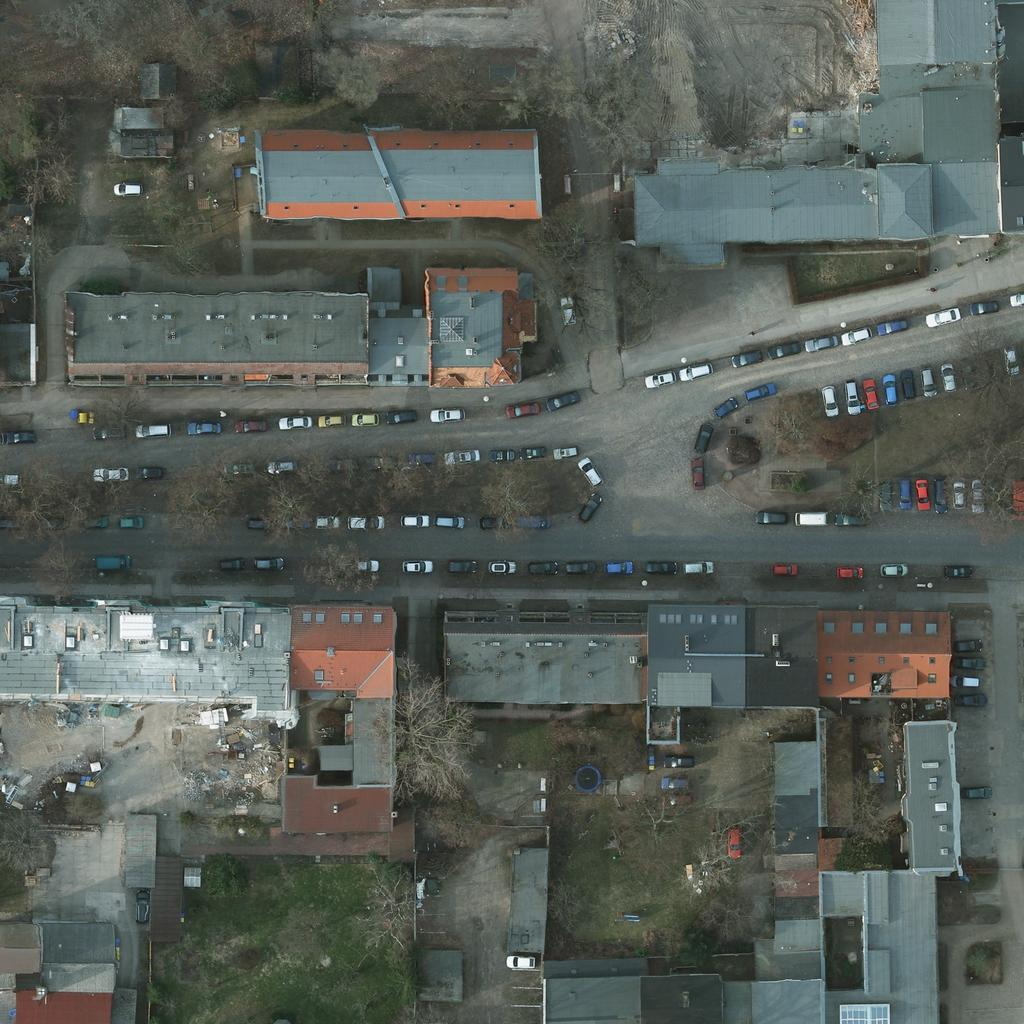car: (111, 171, 145, 205), (969, 289, 1003, 323), (550, 293, 584, 327), (924, 299, 958, 333), (877, 307, 911, 341), (840, 317, 874, 351), (804, 324, 838, 358), (767, 330, 801, 364), (732, 339, 766, 373), (678, 352, 712, 386), (948, 355, 982, 389), (646, 360, 680, 394), (910, 362, 944, 396), (931, 362, 965, 396), (890, 367, 924, 401), (873, 371, 907, 405), (740, 374, 774, 408), (853, 376, 887, 410), (833, 379, 867, 413), (545, 382, 579, 416), (812, 382, 846, 416), (505, 389, 539, 423), (707, 389, 741, 423), (432, 396, 466, 430), (385, 397, 419, 431), (346, 401, 380, 435), (314, 402, 348, 436), (278, 403, 312, 437), (233, 406, 267, 440), (187, 408, 221, 442), (135, 411, 169, 445), (93, 413, 127, 447), (685, 421, 719, 455), (516, 433, 550, 467), (546, 433, 580, 467), (484, 436, 518, 470), (448, 438, 482, 472), (406, 440, 440, 474), (368, 443, 402, 477), (327, 447, 361, 481), (264, 448, 298, 482), (224, 449, 258, 483), (131, 453, 165, 487), (93, 455, 127, 489), (573, 455, 607, 489), (943, 475, 977, 509), (868, 476, 902, 510), (868, 477, 902, 511), (887, 477, 921, 511), (905, 477, 939, 511), (960, 478, 994, 512), (924, 479, 958, 513), (572, 492, 606, 526), (754, 499, 788, 533), (785, 500, 819, 534), (395, 502, 429, 536), (833, 502, 867, 536), (79, 503, 113, 537), (110, 504, 144, 538), (307, 504, 341, 538), (346, 504, 380, 538), (431, 504, 465, 538), (519, 504, 553, 538), (280, 505, 314, 539), (4, 506, 38, 540), (35, 506, 69, 540), (241, 506, 275, 540), (479, 506, 513, 540), (98, 544, 132, 578), (212, 545, 246, 579), (248, 546, 282, 580), (346, 548, 380, 582), (399, 548, 433, 582), (441, 548, 475, 582), (484, 548, 518, 582), (680, 548, 714, 582), (526, 549, 560, 583), (561, 549, 595, 583), (600, 549, 634, 583), (640, 549, 674, 583), (680, 549, 714, 583), (767, 551, 801, 585), (875, 552, 909, 586), (939, 554, 973, 588), (831, 555, 865, 589), (949, 628, 983, 662), (946, 662, 980, 696), (953, 681, 987, 715), (664, 743, 698, 777), (658, 764, 692, 798), (962, 774, 996, 808), (659, 781, 693, 815), (717, 822, 751, 856), (125, 888, 159, 922), (504, 944, 538, 978), (993, 342, 1024, 376), (1005, 281, 1024, 315)
